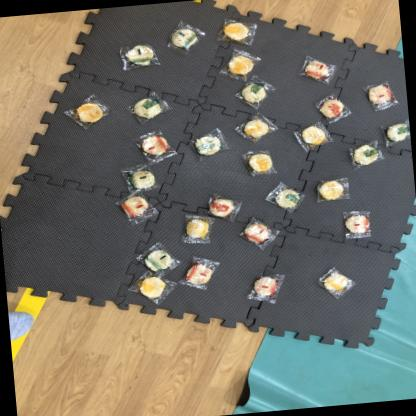green_setoshio: (235, 77, 278, 111), (117, 40, 161, 72), (267, 182, 308, 214), (166, 22, 206, 54), (138, 244, 180, 274), (346, 137, 384, 170), (130, 90, 169, 122), (121, 164, 159, 194), (191, 129, 228, 159), (381, 122, 411, 146)
red_setoshio: (180, 254, 224, 293), (238, 216, 284, 250), (136, 128, 178, 164), (248, 270, 288, 307), (115, 192, 158, 226), (298, 54, 340, 86), (337, 206, 374, 242), (314, 90, 354, 121), (364, 80, 397, 112), (209, 194, 245, 220)
yellow_setoshio: (69, 96, 112, 132), (318, 265, 360, 301), (215, 15, 259, 47), (291, 119, 333, 152), (180, 212, 218, 248), (241, 146, 281, 180), (220, 47, 262, 79), (134, 272, 174, 304), (237, 113, 279, 142), (316, 173, 353, 204)
